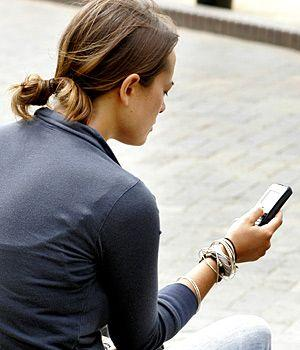person: (2, 3, 285, 350)
